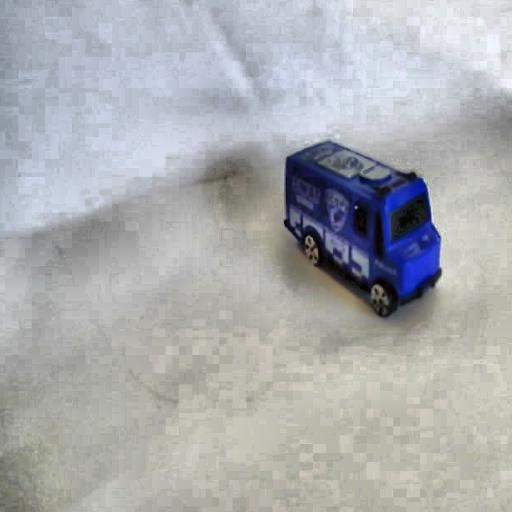police car: (285, 146, 444, 307)
